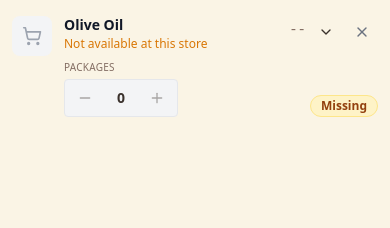
Test: ReceiptItem package calculations › shows 0 packages when the item is unavailable at the store
The image size is (390, 228).
Expected: the text "0" is shown, 117,88 -> 125,106
What coordinates should you click on to do the following:
click the button named "expand item details"
I would click on:
 (326, 32)
Its box is 310,16 -> 342,48.
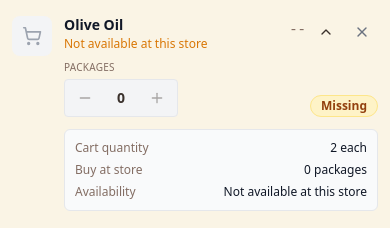
Expected: the text "Not available at this store" is shown 2 times, 64,36 -> 226,52; 224,184 -> 367,200
Expected: the text "Buy at store" is shown, 75,162 -> 142,178
Expected: the text "0 packages" is shown, 304,162 -> 367,178
